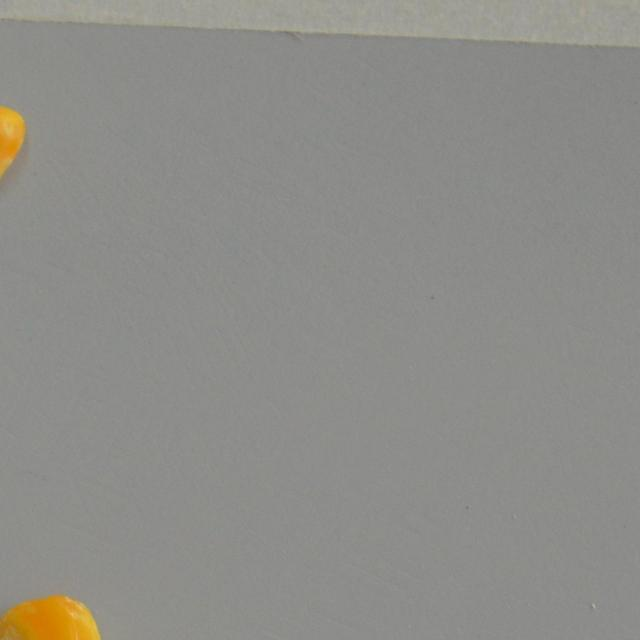no_desgerminado: (0, 592, 106, 640), (0, 102, 26, 196)
